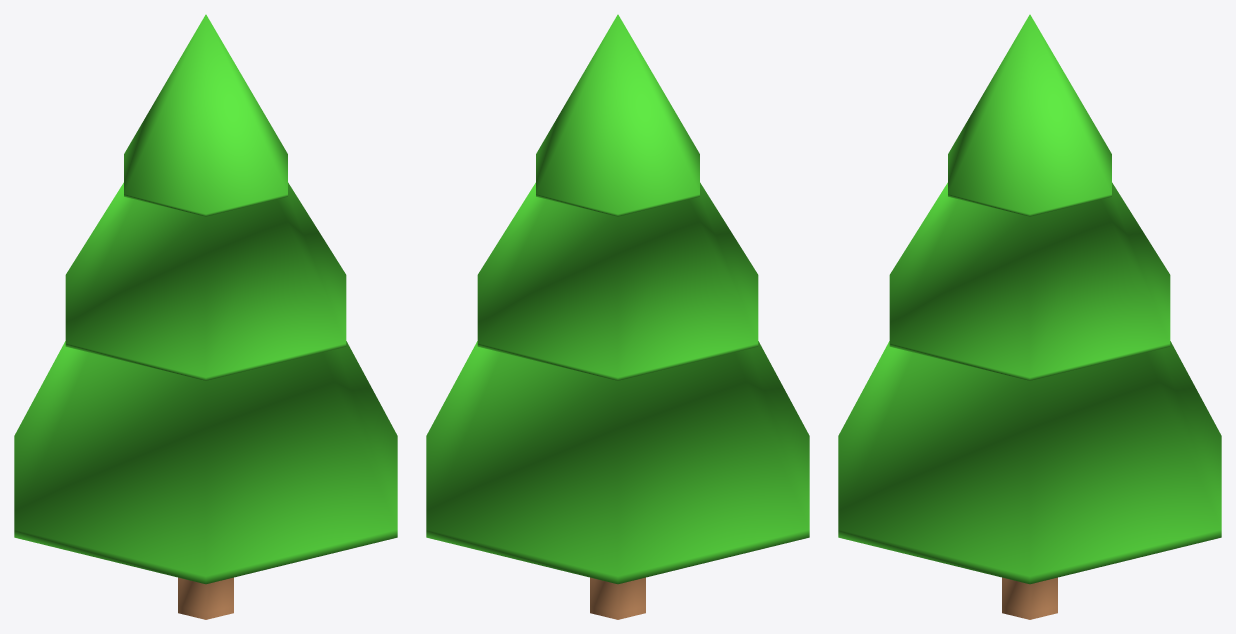
The model's file is Big tree.fbx.
The picture shows the model from 3 angles, left to right: view 1: azimuth 30°, elevation 25°; view 2: azimuth 150°, elevation 25°; view 3: azimuth 270°, elevation 25°; orthographic projection.
Visible parts, largest first — view 1: Cone.044; view 2: Cone.044; view 3: Cone.044.
Boxes of the visible parts, x1,y1,x2,y2 form: Cone.044: [14, 14, 397, 619]; Cone.044: [426, 14, 809, 619]; Cone.044: [838, 14, 1221, 619].
Bounding box in the file's own units: 438 × 647 × 379.
